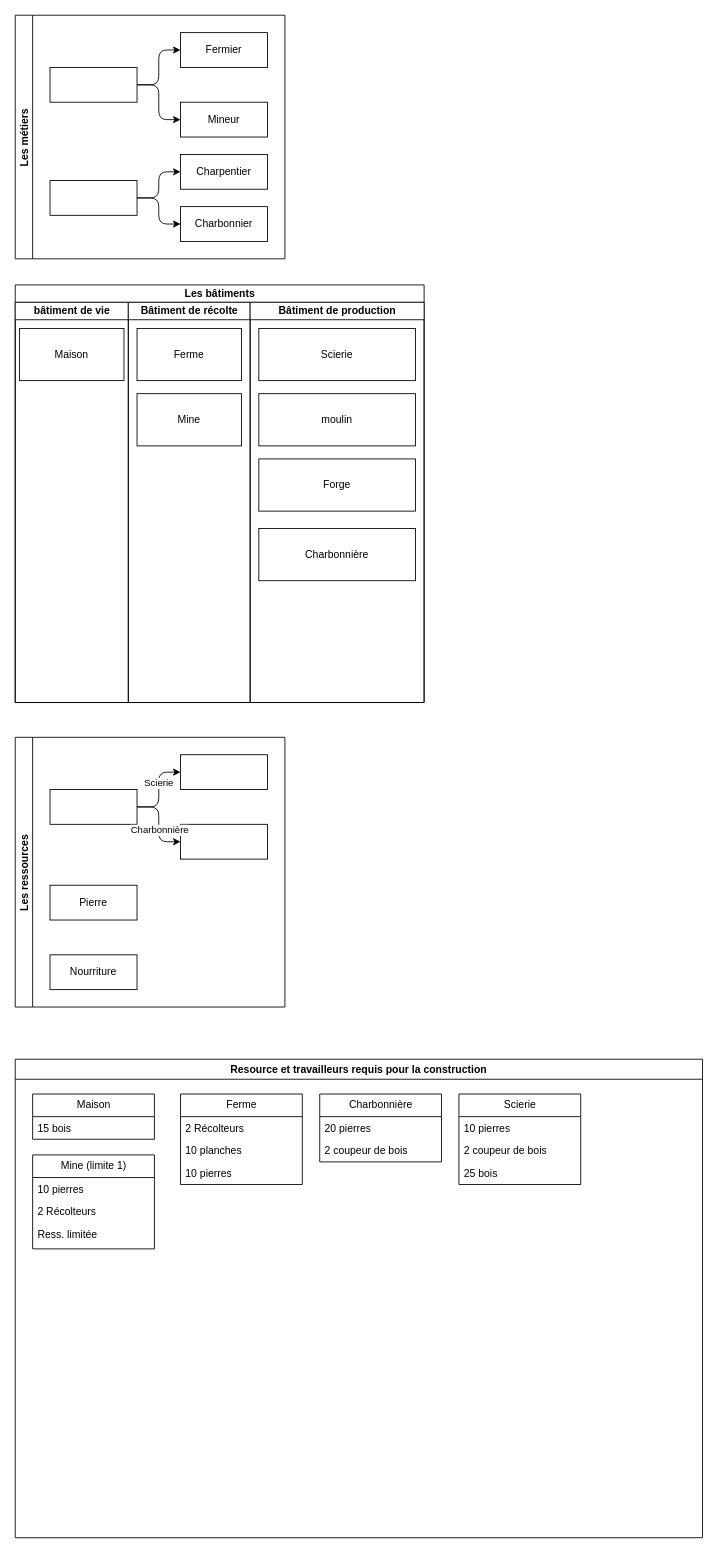
Some shapes in this 718 by 1553 pixel diagram are drawn without their labels. Here are the shapes that lost their labels. From the top down, the centre of each, then its label:
the point at 93,84: Récolteur
the point at 93,197: Coupeur de bois
the point at 224,772: Planches
the point at 93,806: Bois
the point at 224,841: Charbon de bois
